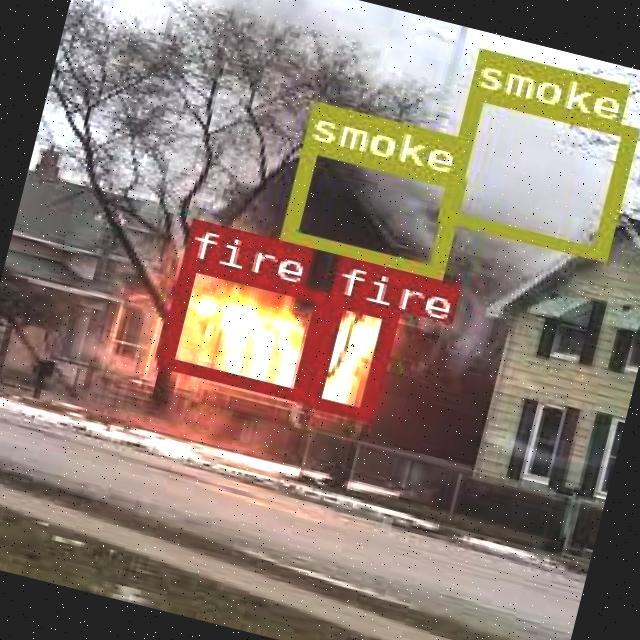fire: (156, 255, 328, 400), (302, 292, 395, 418)
smoke: (435, 85, 635, 258), (278, 136, 462, 275)
